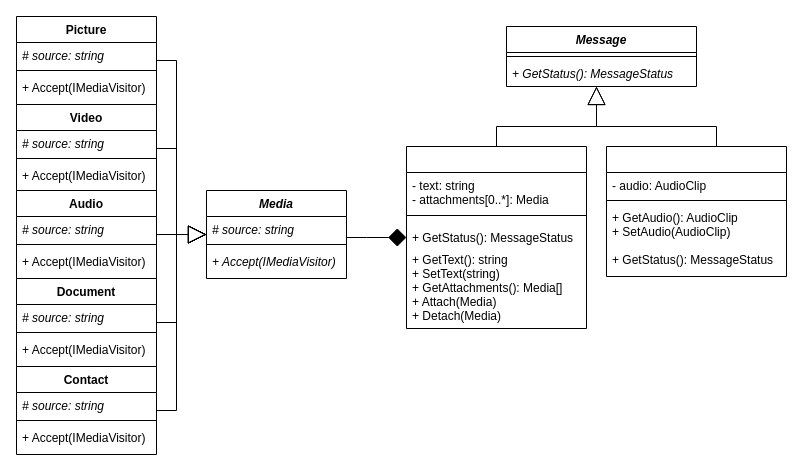
This 803x471 diagram has some shape labels left out. Here are the shapes that lost their labels. From the top down, the box of each, then its label:
(606, 146, 786, 276): VoiceMessage
(406, 146, 586, 328): TextMessage
